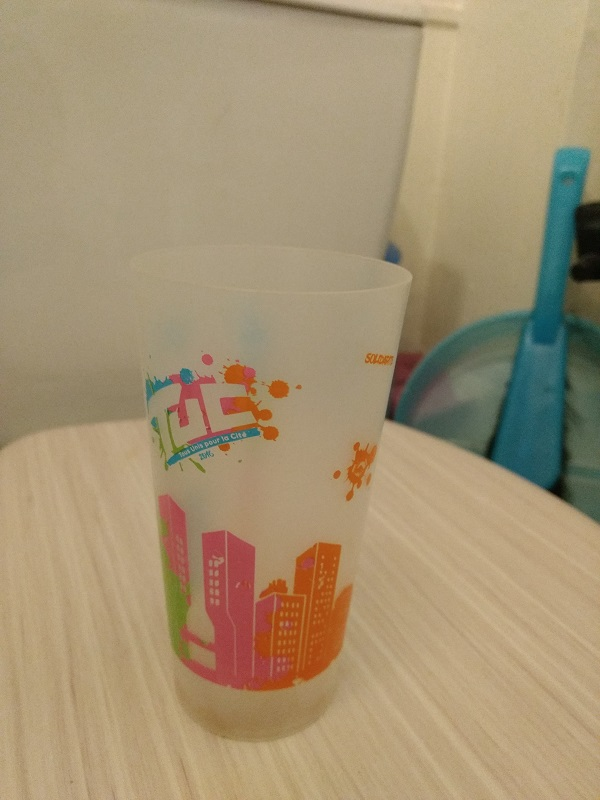ecocup: (125, 243, 414, 744)
